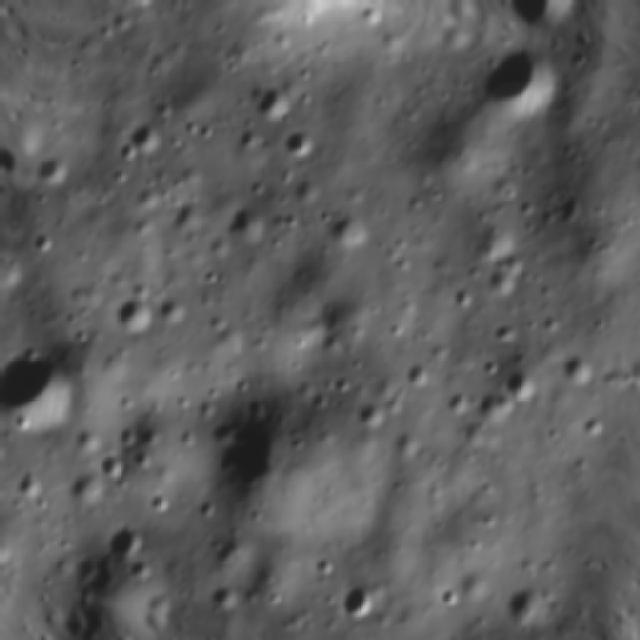crater: (0, 334, 91, 435), (465, 43, 570, 128), (224, 199, 279, 253), (494, 362, 549, 413), (31, 134, 77, 194), (329, 579, 383, 623), (121, 118, 167, 165), (116, 288, 166, 330), (281, 123, 325, 163), (109, 0, 163, 18)
